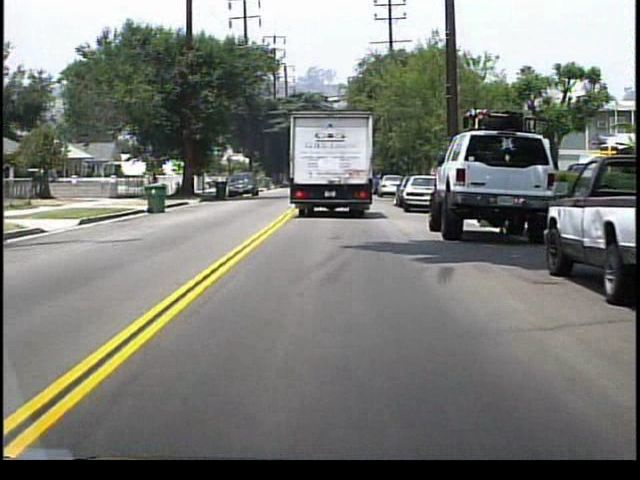person: (150, 169, 161, 197)
